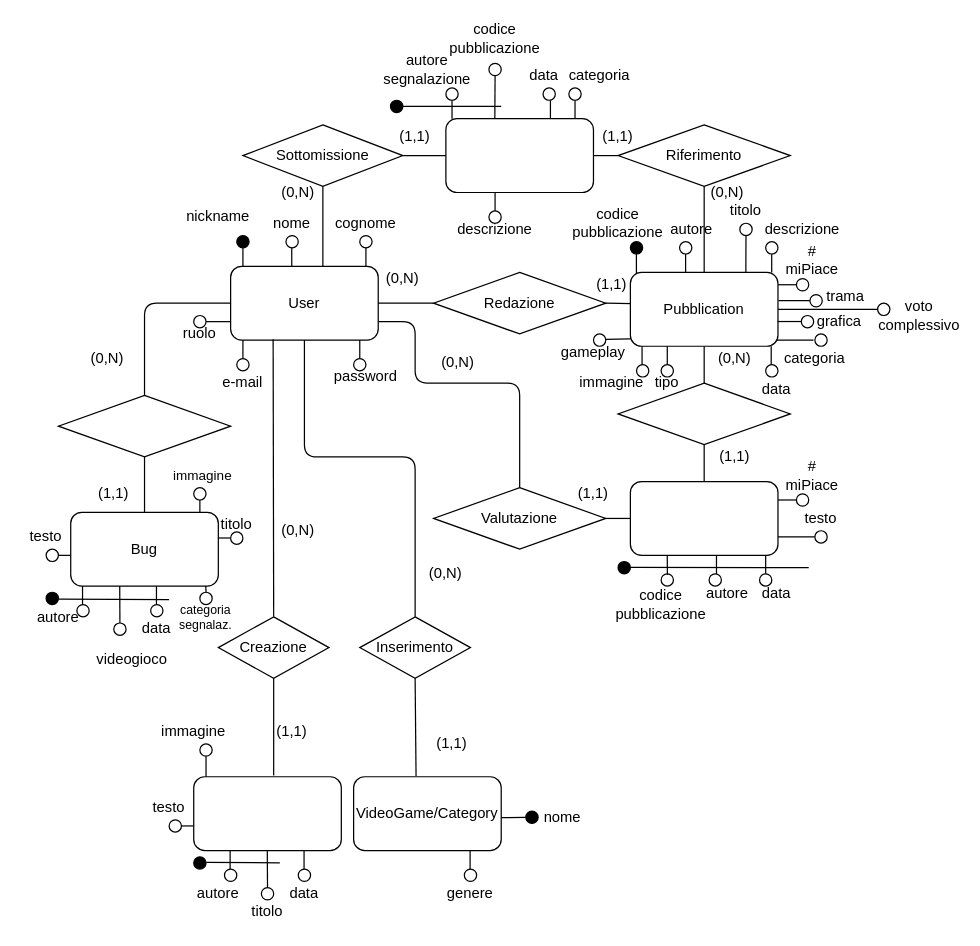
Some shapes in this 980 by 946 pixel diagram are drawn without their labels. The box of each missing label's shape, as (x1, y1, x2, y2) in pixels:
Comment: (629, 480, 778, 555)
Discussione: (617, 382, 790, 445)
News: (192, 776, 341, 851)
PubblicationReport: (445, 117, 593, 192)
Segnalazione: (57, 394, 231, 457)
